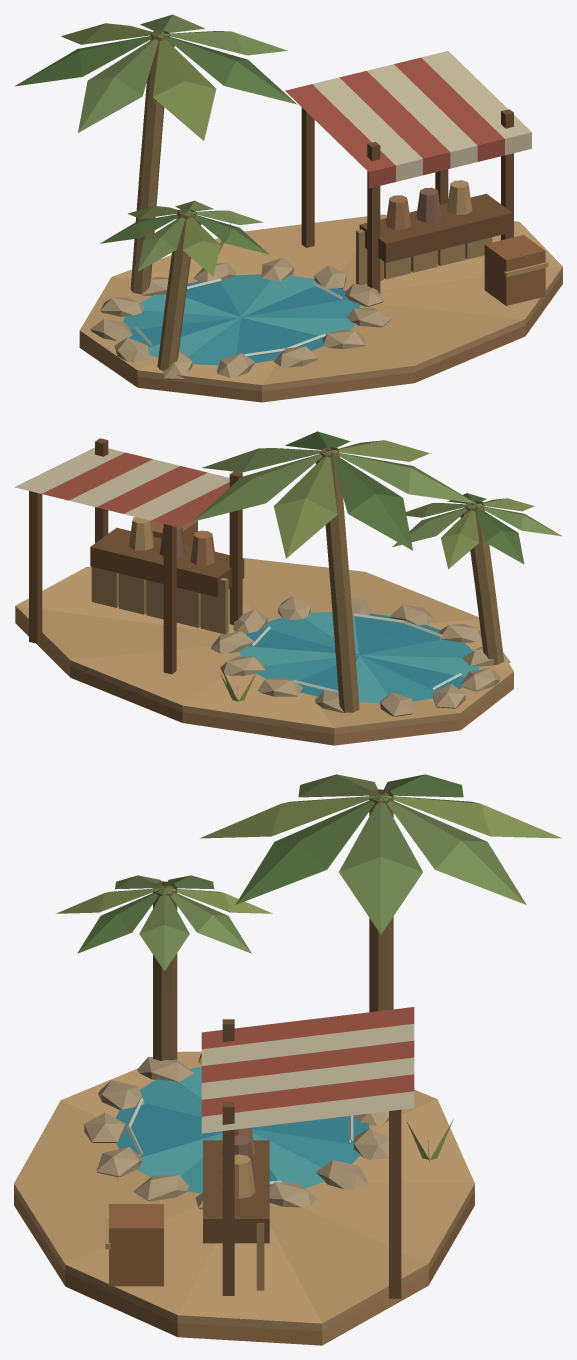
The picture shows the model from 3 angles, top to bottom: view 1: azimuth 30°, elevation 25°; view 2: azimuth 150°, elevation 25°; view 3: azimuth 270°, elevation 25°; orthographic projection. The views are drawn at different scales.
Parts seen in each view (by area): view 1: S04_绿洲商站; view 2: S04_绿洲商站; view 3: S04_绿洲商站.
Part boxes in pixels (x1=…): S04_绿洲商站: x1=14, y1=14, x2=562, y2=402; S04_绿洲商站: x1=14, y1=431, x2=561, y2=745; S04_绿洲商站: x1=14, y1=774, x2=561, y2=1345.
Size of the model in its own units: 5.3 by 2.96 by 4.29.
